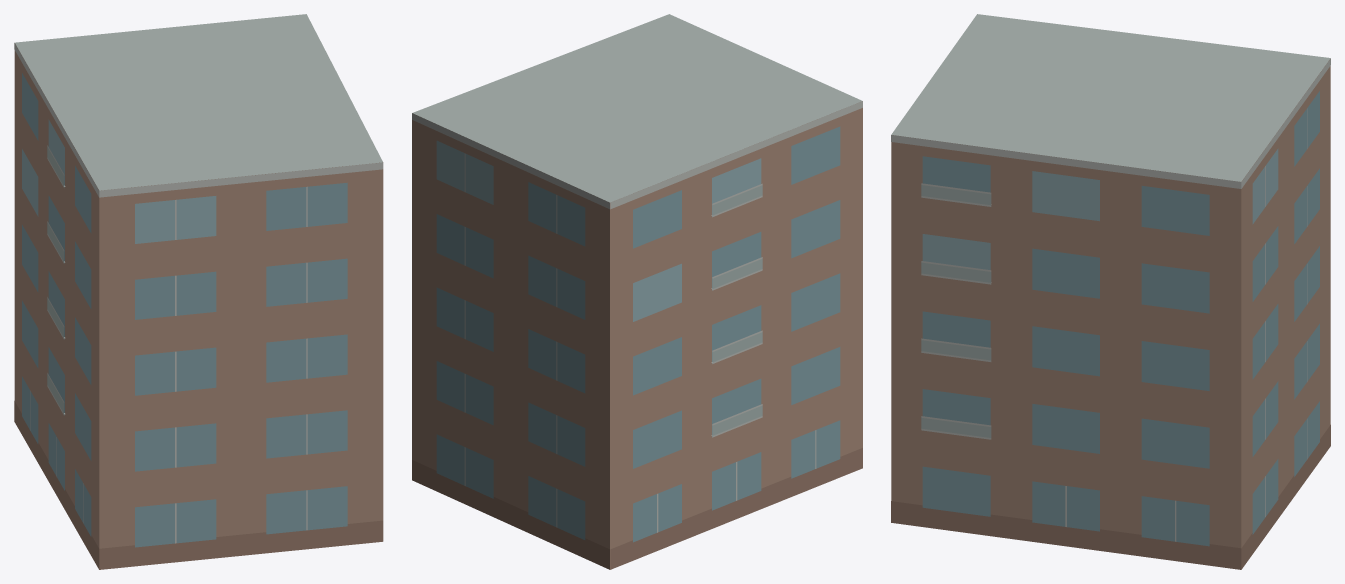
The model's file is survey-upis-32874871.glb.
The picture shows the model from 3 angles, left to right: view 1: azimuth 30°, elevation 25°; view 2: azimuth 150°, elevation 25°; view 3: azimuth 270°, elevation 25°; orthographic projection. The views are drawn at different scales.
Visible parts, largest first — view 1: survey-upis-32874871.tmp; view 2: survey-upis-32874871.tmp; view 3: survey-upis-32874871.tmp.
Boxes of the visible parts, x1,y1,x2,y2 form: survey-upis-32874871.tmp: (14, 14, 383, 569); survey-upis-32874871.tmp: (412, 14, 862, 569); survey-upis-32874871.tmp: (891, 14, 1330, 569).
Size of the model in its own units: 12.26 by 13.2 by 13.57.
